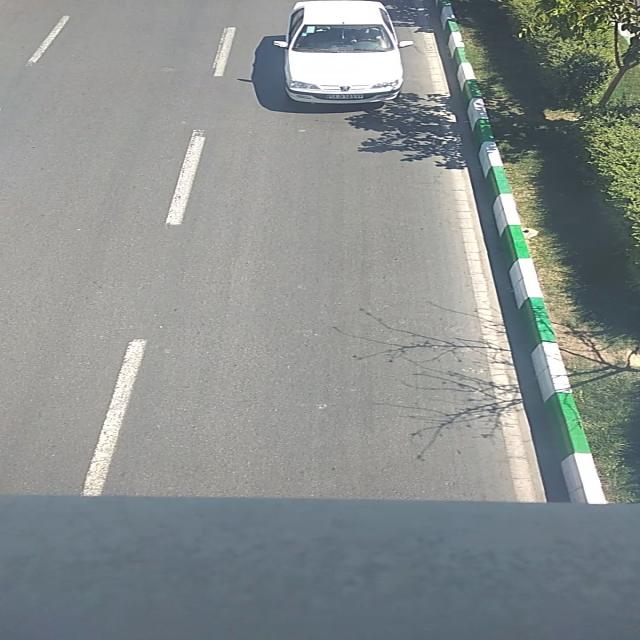car: (272, 0, 413, 104)
